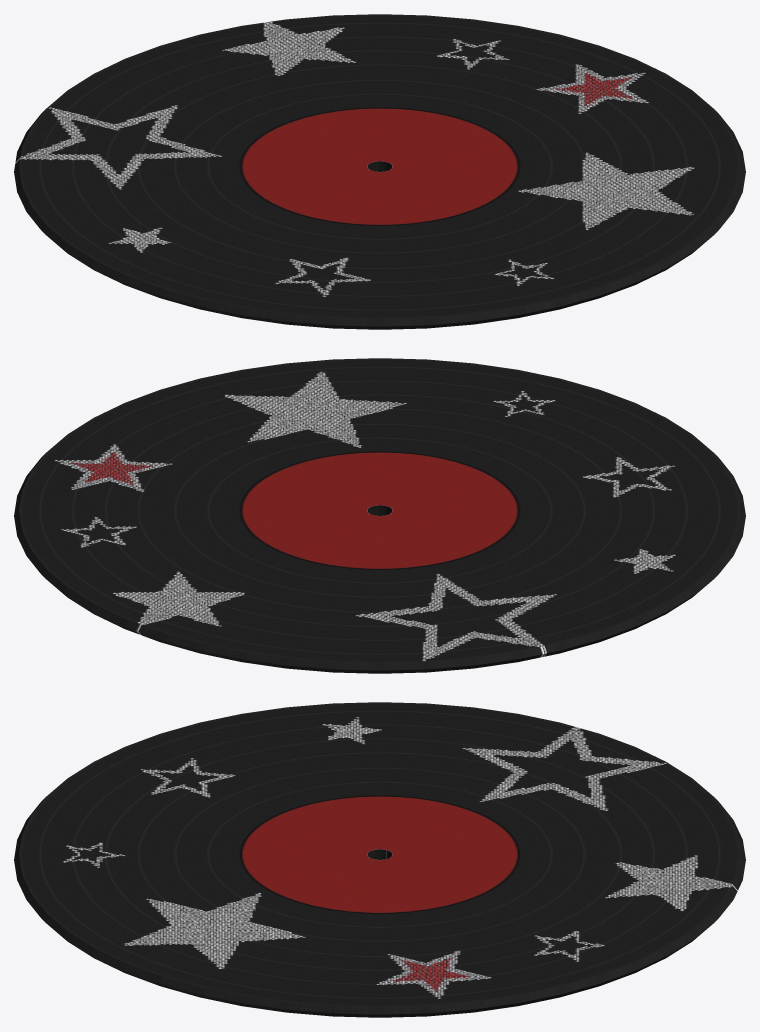
Rendered from vinyl_matte.glb.
3 renders of one model, top to bottom at view 1: azimuth 30°, elevation 25°; view 2: azimuth 150°, elevation 25°; view 3: azimuth 270°, elevation 25°, orthographic.
Parts seen in each view (by area): view 1: Vinyl; view 2: Vinyl; view 3: Vinyl.
Boxes of the visible parts, x1,y1,x2,y2 form: Vinyl: (14,14,745,329); Vinyl: (14,358,745,673); Vinyl: (14,702,745,1017).
Size of the model in its own units: 1 by 0.016 by 1.
1 material, 1 textured.
